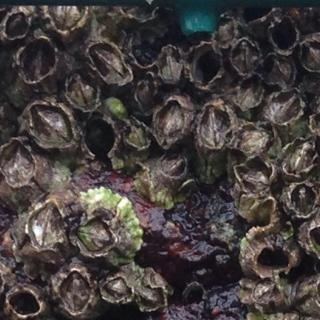Barnacle: (28, 103, 74, 150), (0, 142, 39, 193), (74, 215, 114, 258), (29, 202, 64, 249), (200, 103, 234, 151), (89, 44, 130, 83), (151, 101, 185, 144), (282, 140, 318, 177), (61, 270, 92, 312), (66, 71, 99, 110), (267, 88, 301, 124), (46, 2, 86, 29), (133, 71, 159, 109), (241, 160, 271, 191), (160, 148, 186, 180), (239, 76, 262, 112), (238, 127, 268, 154), (290, 183, 316, 214), (123, 123, 149, 154), (232, 39, 255, 72), (160, 47, 181, 82), (5, 12, 30, 41), (268, 59, 294, 86), (254, 277, 280, 301), (139, 287, 163, 308), (104, 278, 128, 299), (302, 41, 320, 69)
